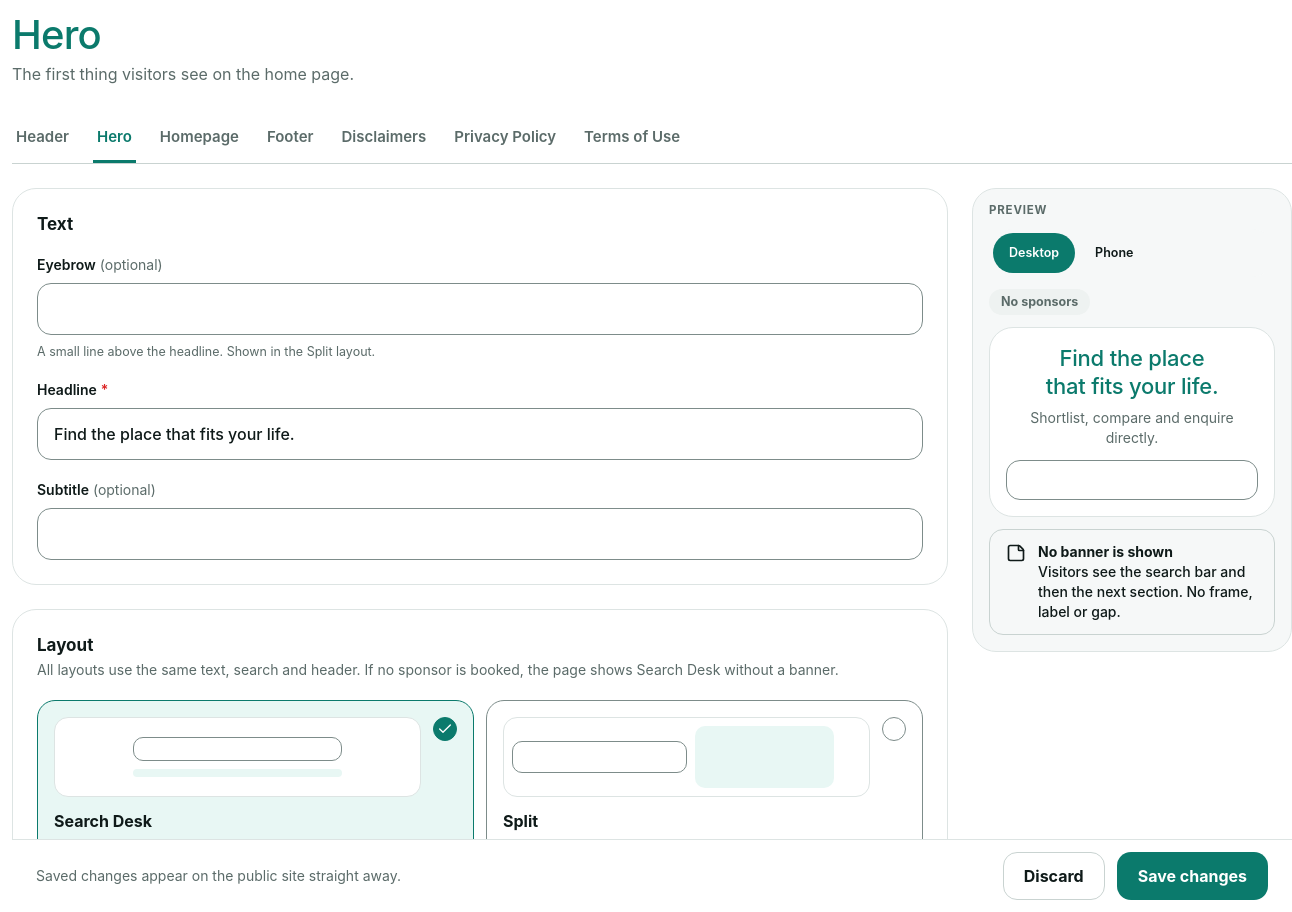
Scenario: UT-hero-page: the Hero page (S7-T10) › puts the boxes back to what was loaded when Discard is pressed
Step 1. Clear the field labelled "Headline*" → (480, 434), box [37,408,923,460]
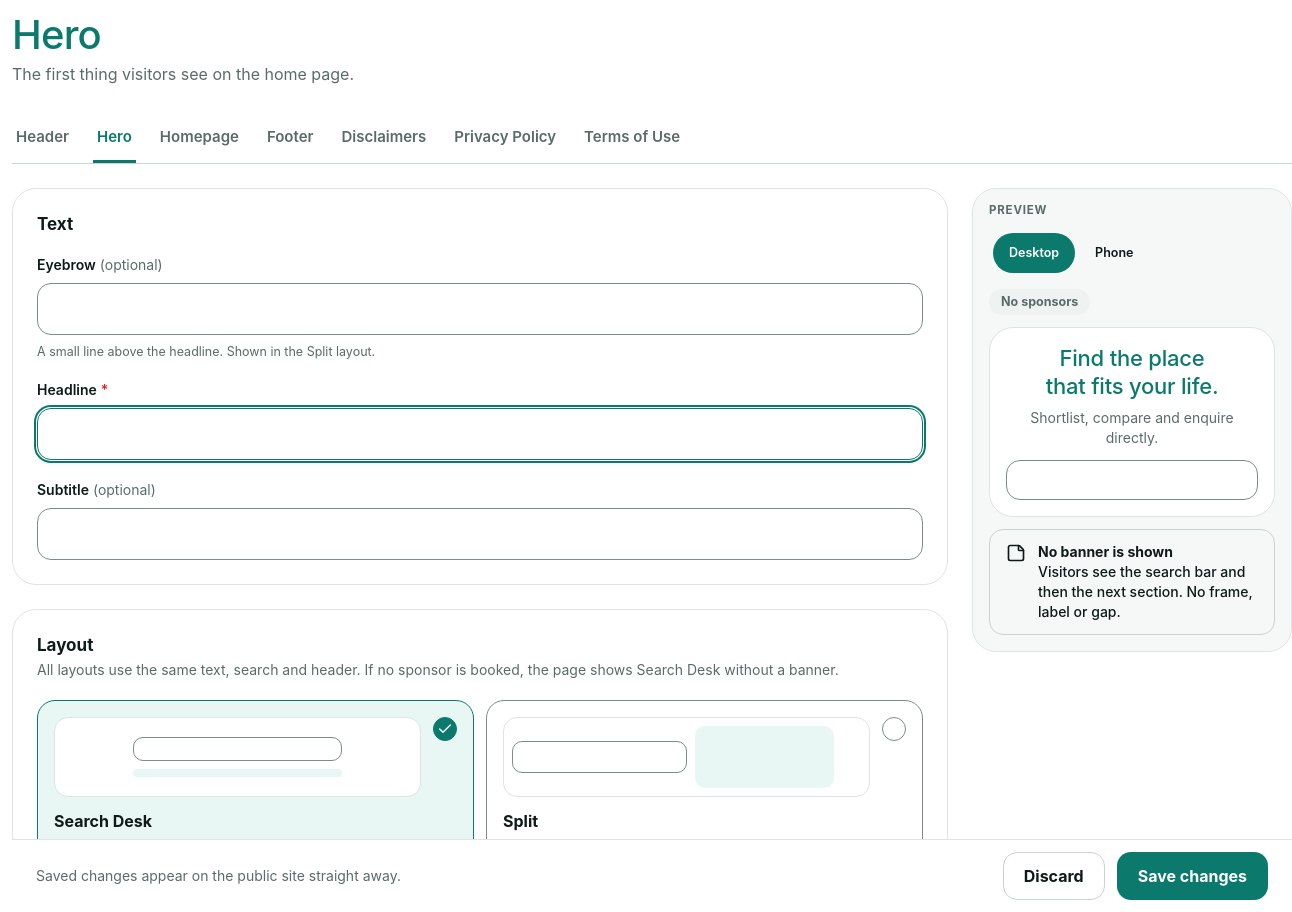
Step 2. Click the radio button labelled "Split" → (704, 798), box [486,700,923,895]
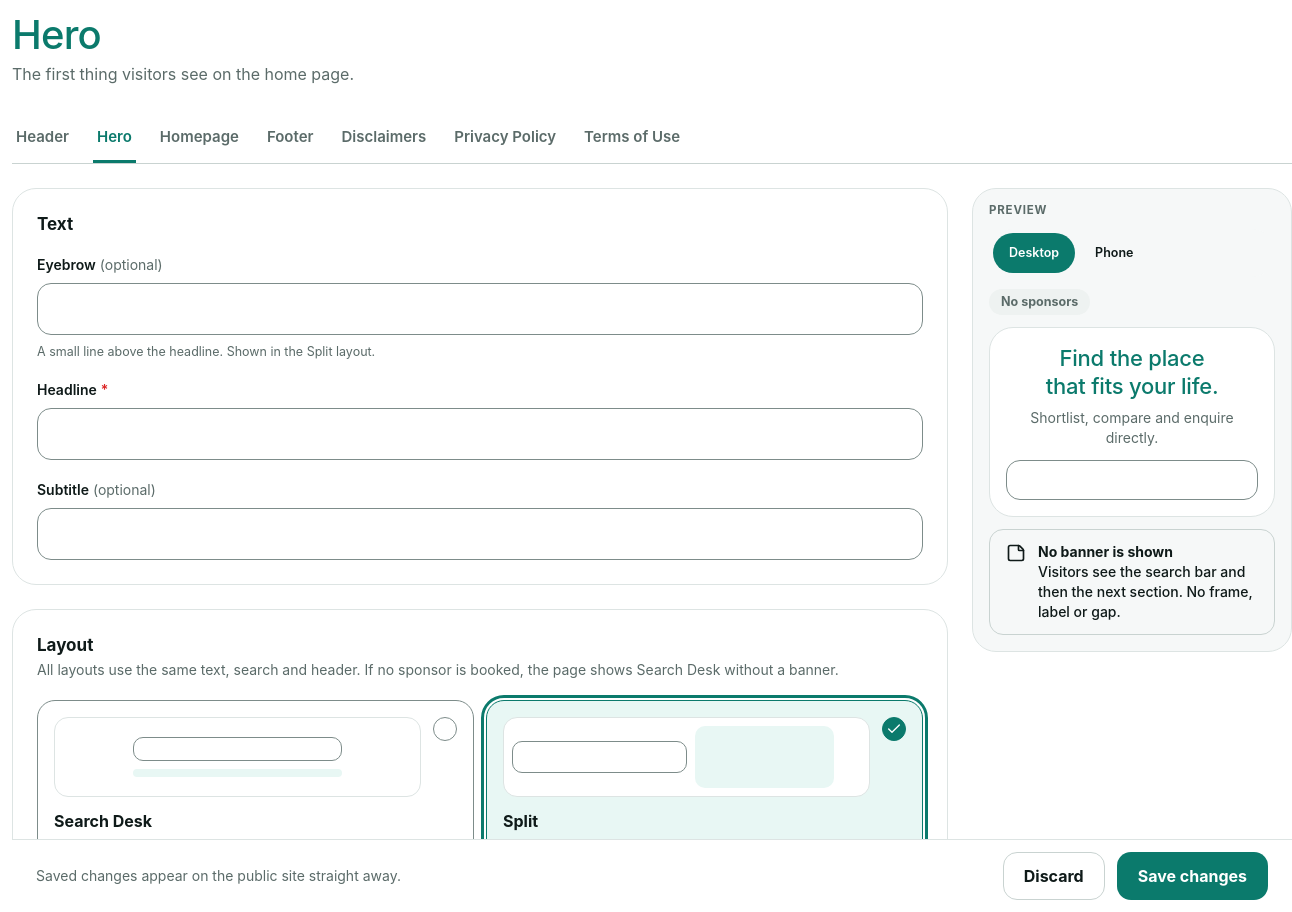
Step 3. Click the button "Discard" → (1054, 876), box [1003,852,1105,900]
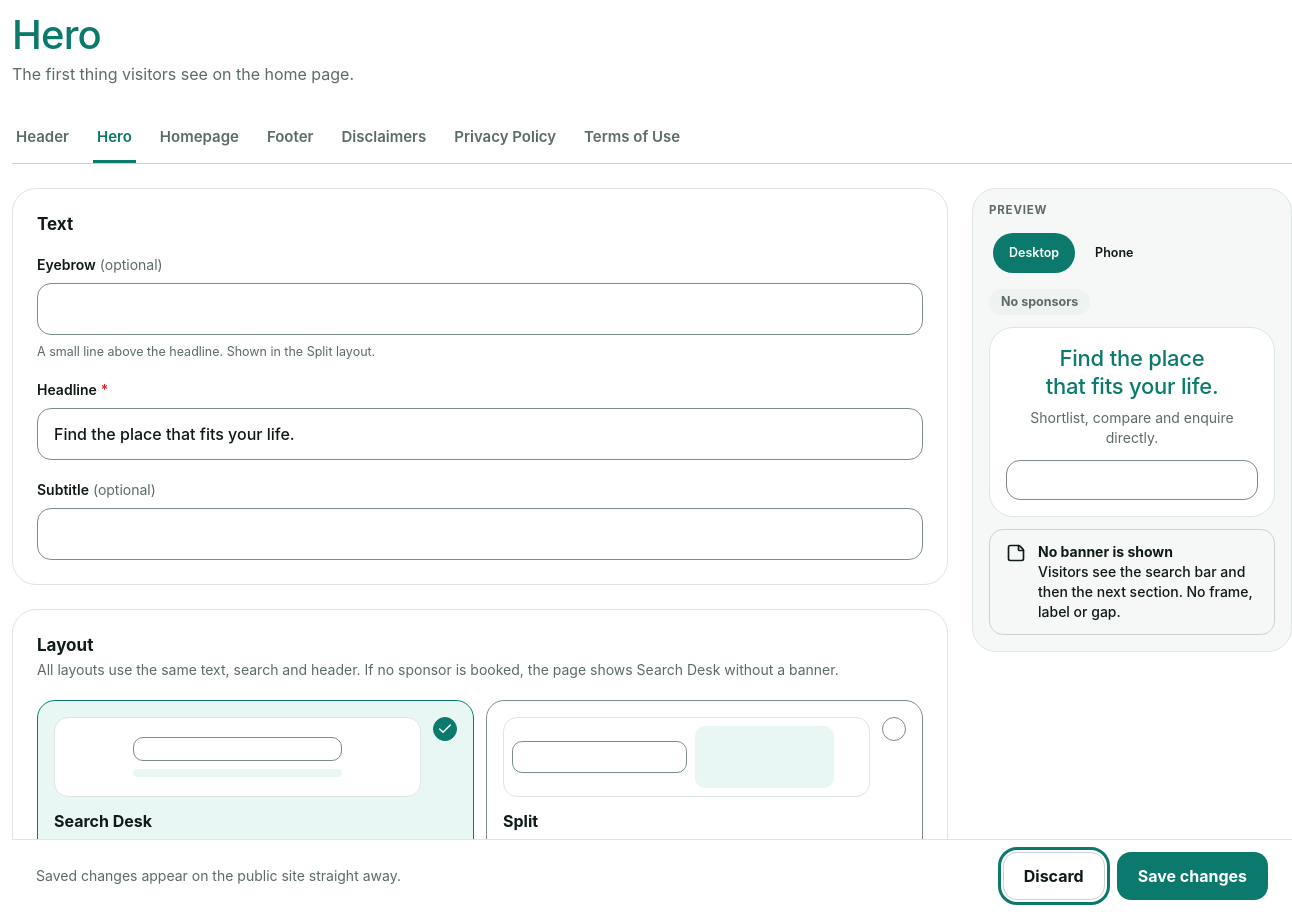
Check: the field labelled "Headline*" holds "Find the place that fits your life.", box [37,408,923,460]
Check: the radio button labelled "Search Desk Centred search with a banner strip underneath." is checked, box [37,700,474,895]
